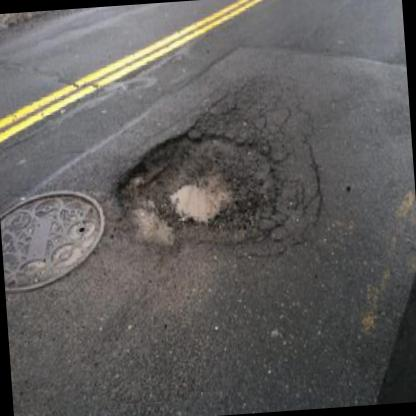pothole: (113, 121, 287, 252)
